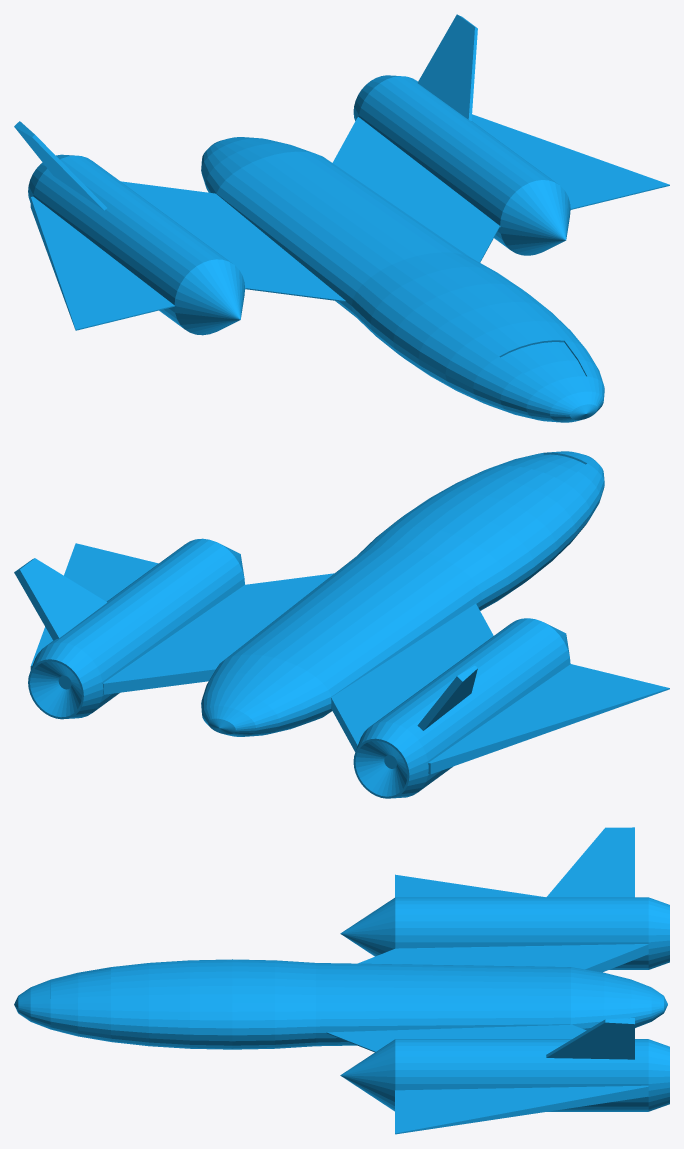
The model's file is Blackbird.fbx.
3 views of the same model, one above another, from view 1: azimuth 30°, elevation 25°; view 2: azimuth 150°, elevation 25°; view 3: azimuth 270°, elevation 25° (orthographic). The views are drawn at different scales.
Parts seen in each view (by area): view 1: Cube; view 2: Cube; view 3: Cube.
Part boxes in pixels (x1,y1,x2,y2): Cube: (14, 14, 669, 422); Cube: (14, 451, 669, 798); Cube: (14, 827, 669, 1134).
Bounding box in the file's own units: 168 × 34.82 × 180.
